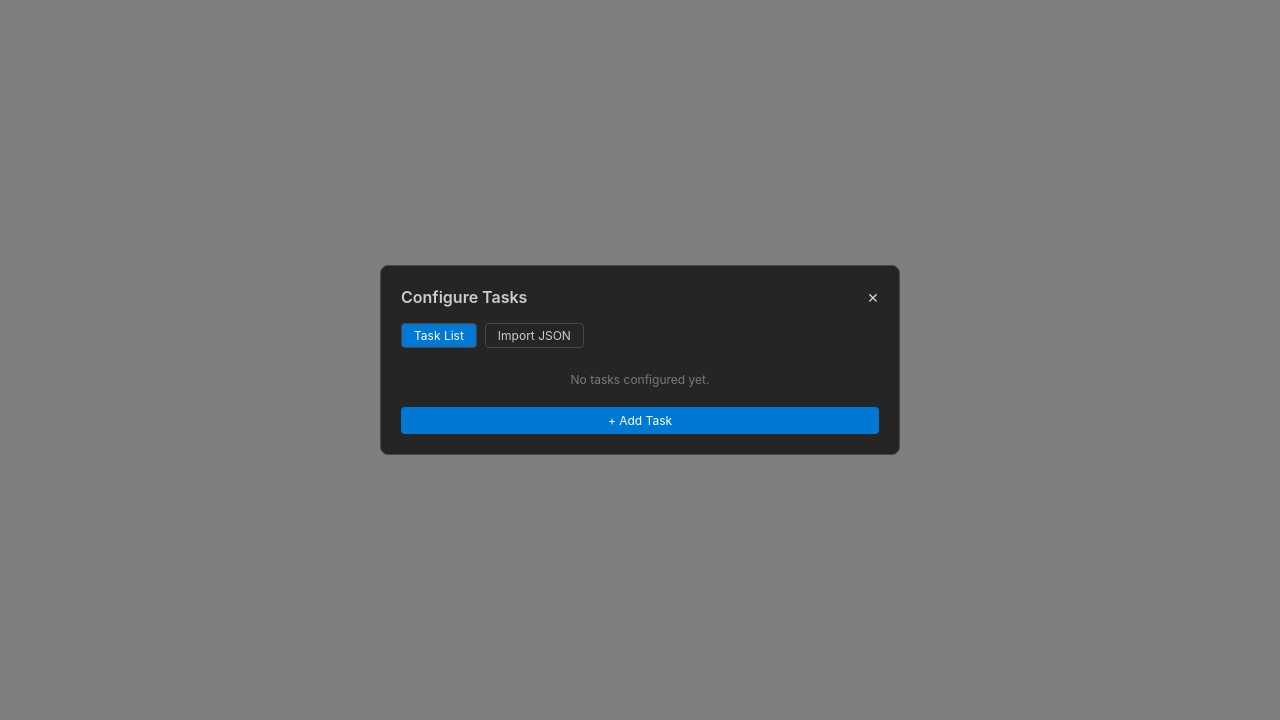
Scenario: ConfigureTasksDialogViewPresenter › displays validation errors when task is invalid
The image size is (1280, 720).
Click the button "+ Add Task": (640, 420) [401,407,879,434]
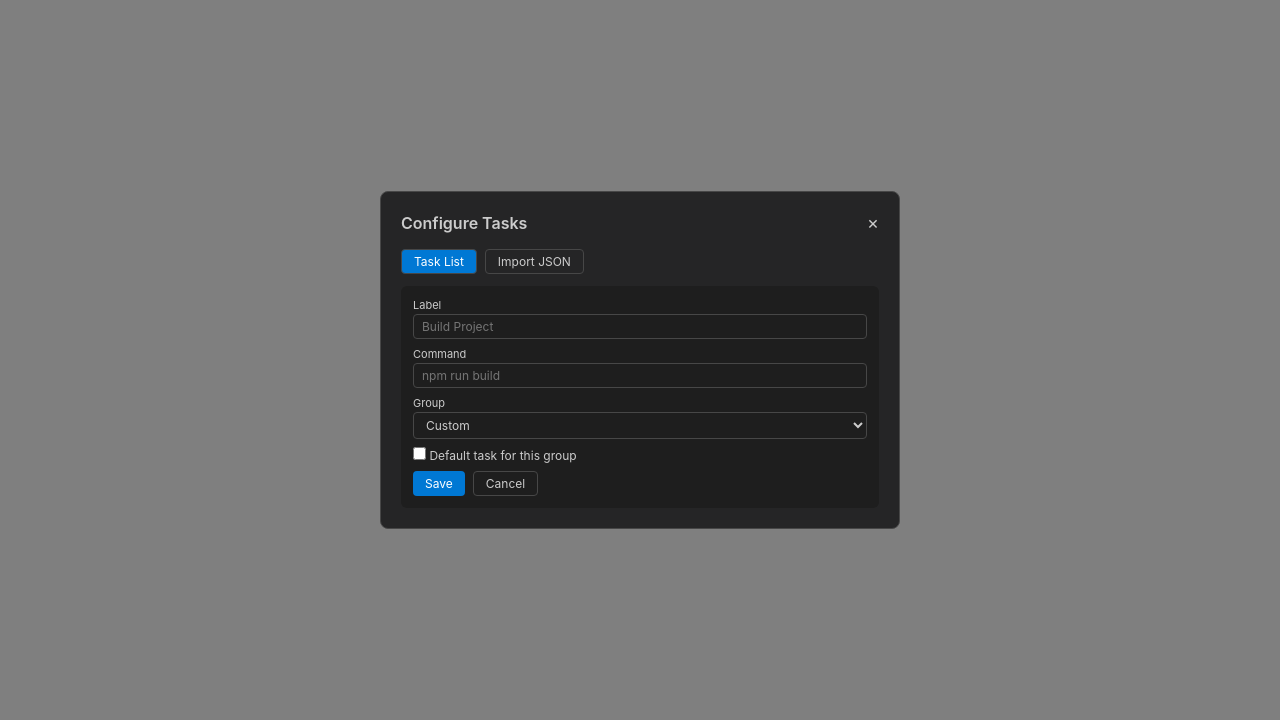
Click the button "Save": (439, 484) [413,471,465,496]
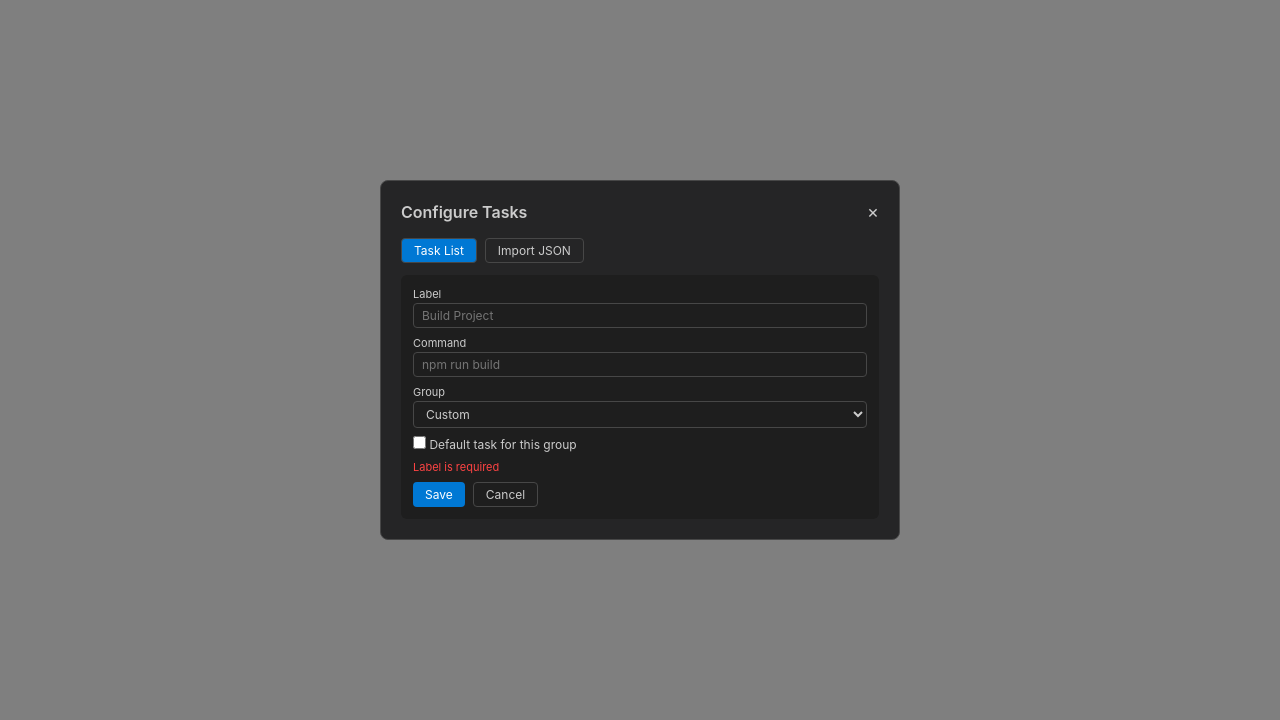
Result: the text "Label is required" is shown at [413,460,499,474]
